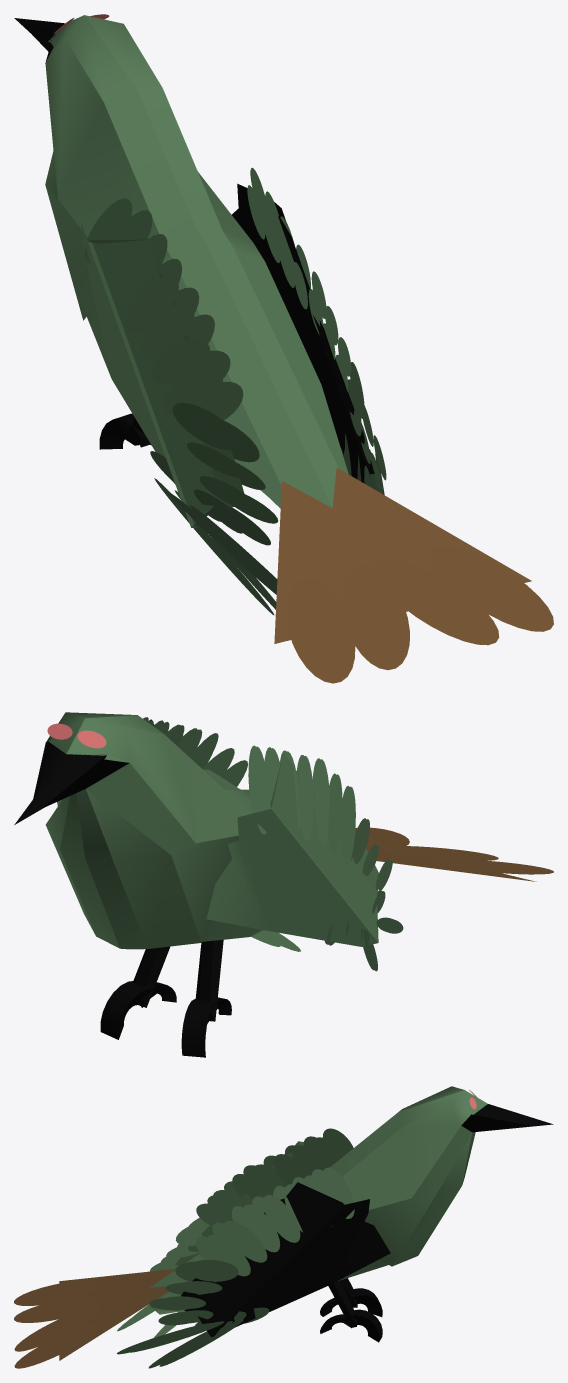
File: BirdCompanion.fbx
The picture shows the model from 3 angles, top to bottom: view 1: azimuth 30°, elevation 25°; view 2: azimuth 150°, elevation 25°; view 3: azimuth 270°, elevation 25°; orthographic projection. The views are drawn at different scales.
Visible parts, largest first — view 1: polySurface1, RightWing (×2), Tail, pasted__pDisc1 (×2), pasted__pDisc16, pasted__pDisc17, pasted__pDisc18, pasted__pDisc6, pasted__pDisc4, pasted__pDisc8, pasted__pDisc5, pasted__pDisc7 (+7 smaller); view 2: polySurface1, RightWing, polySurface2, FrontToe, Leg, pasted__pDisc1 (×2), pasted__pDisc17, pasted__pDisc4, pasted__pDisc5, Tail, pasted__pDisc6, pasted__pDisc7 (+6 smaller); view 3: polySurface1, RightWing (×2), Tail, pasted__pDisc1 (×3), polySurface2, pasted__pDisc16, pasted__pDisc17, pasted__pDisc18, FrontToe, pasted__pDisc4, pasted__pDisc5, pasted__pDisc6 (+18 smaller).
Part boxes in pixels (x1,y1,x2,y2): polySurface1: (45, 15, 348, 508); RightWing (×2): (79, 183, 374, 527); Tail: (274, 468, 531, 643); pasted__pDisc1 (×2): (84, 198, 355, 683); pasted__pDisc16: (429, 546, 553, 631); pasted__pDisc17: (341, 564, 409, 670); pasted__pDisc18: (375, 559, 499, 645); pasted__pDisc6: (151, 338, 210, 384); pasted__pDisc4: (125, 275, 178, 332); pasted__pDisc8: (172, 402, 239, 450); pasted__pDisc5: (141, 302, 194, 359); pasted__pDisc7: (163, 370, 223, 415); polySurface1: (45, 712, 263, 949); RightWing: (206, 752, 378, 946); polySurface2: (14, 741, 129, 824); FrontToe: (100, 981, 221, 1057); Leg: (133, 939, 223, 1021); pasted__pDisc1 (×2): (251, 746, 553, 874); pasted__pDisc17: (379, 846, 498, 860); pasted__pDisc4: (298, 756, 313, 841); pasted__pDisc5: (314, 759, 329, 845); Tail: (365, 847, 536, 881); pasted__pDisc6: (328, 774, 342, 854); pasted__pDisc7: (341, 786, 355, 866); polySurface1: (149, 1086, 487, 1314); RightWing (×2): (175, 1141, 390, 1337); Tail: (59, 1269, 175, 1360); pasted__pDisc1 (×3): (14, 1128, 354, 1305); polySurface2: (461, 1104, 553, 1132); pasted__pDisc16: (14, 1323, 100, 1368); pasted__pDisc17: (14, 1297, 101, 1322); pasted__pDisc18: (14, 1307, 100, 1351); FrontToe: (342, 1288, 382, 1342); pasted__pDisc4: (263, 1194, 300, 1242); pasted__pDisc5: (242, 1204, 280, 1252); pasted__pDisc6: (223, 1221, 267, 1262).
Bounding box in the file's own units: 6.2 × 9.68 × 17.7.
